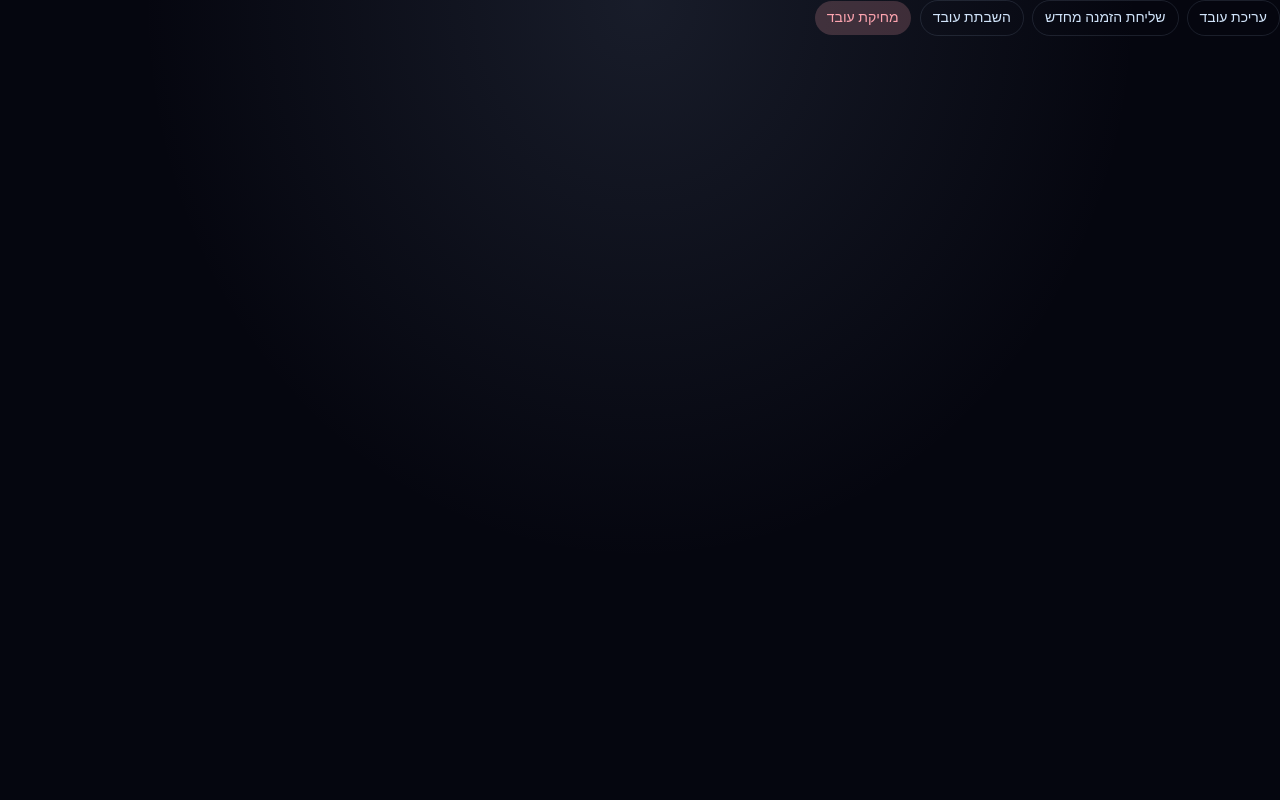
it: employee detail actions › asks for confirmation before deactivation and preserves the future-assignment warning
The width and height of the screenshot is (1280, 800).
Click the button with aria-label "השבתה" at coordinates (972, 18), box [920,0,1024,36]
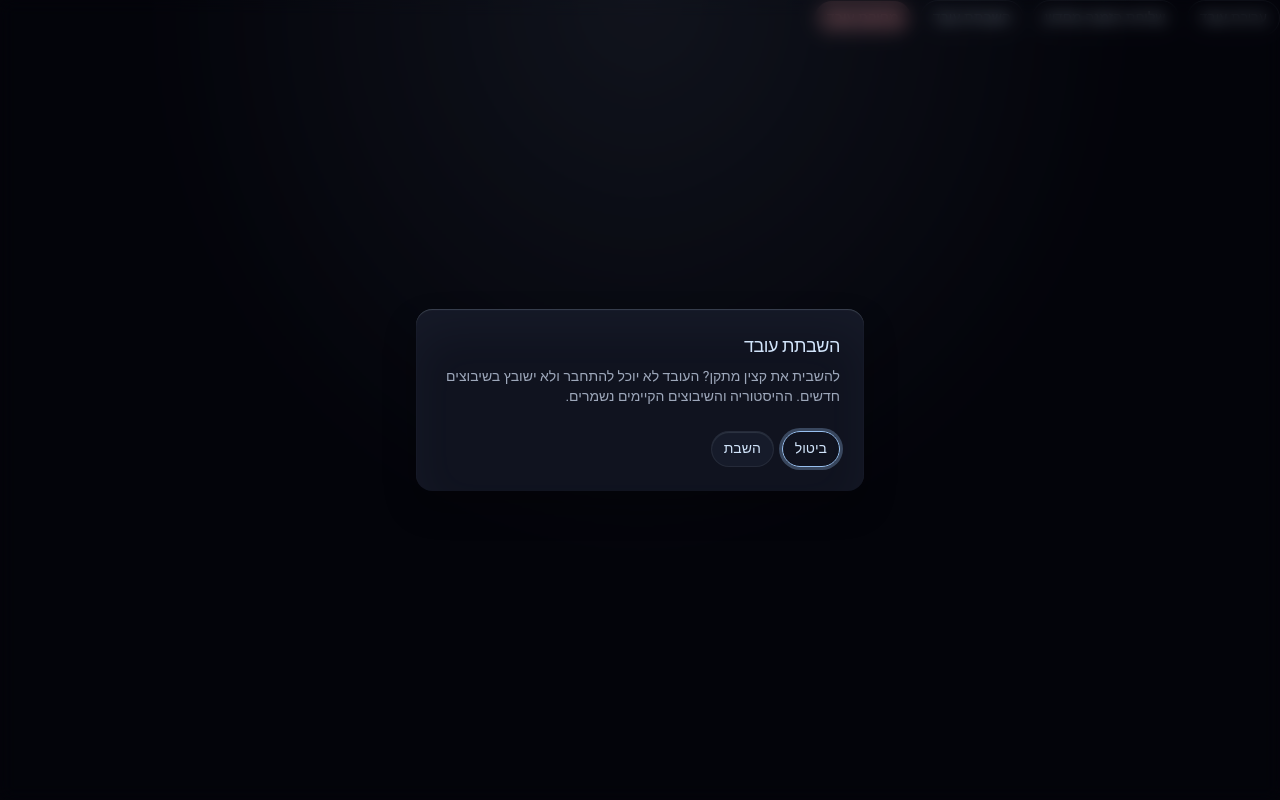
Click the button "השבת" at coordinates (742, 449), box [711,431,774,467]
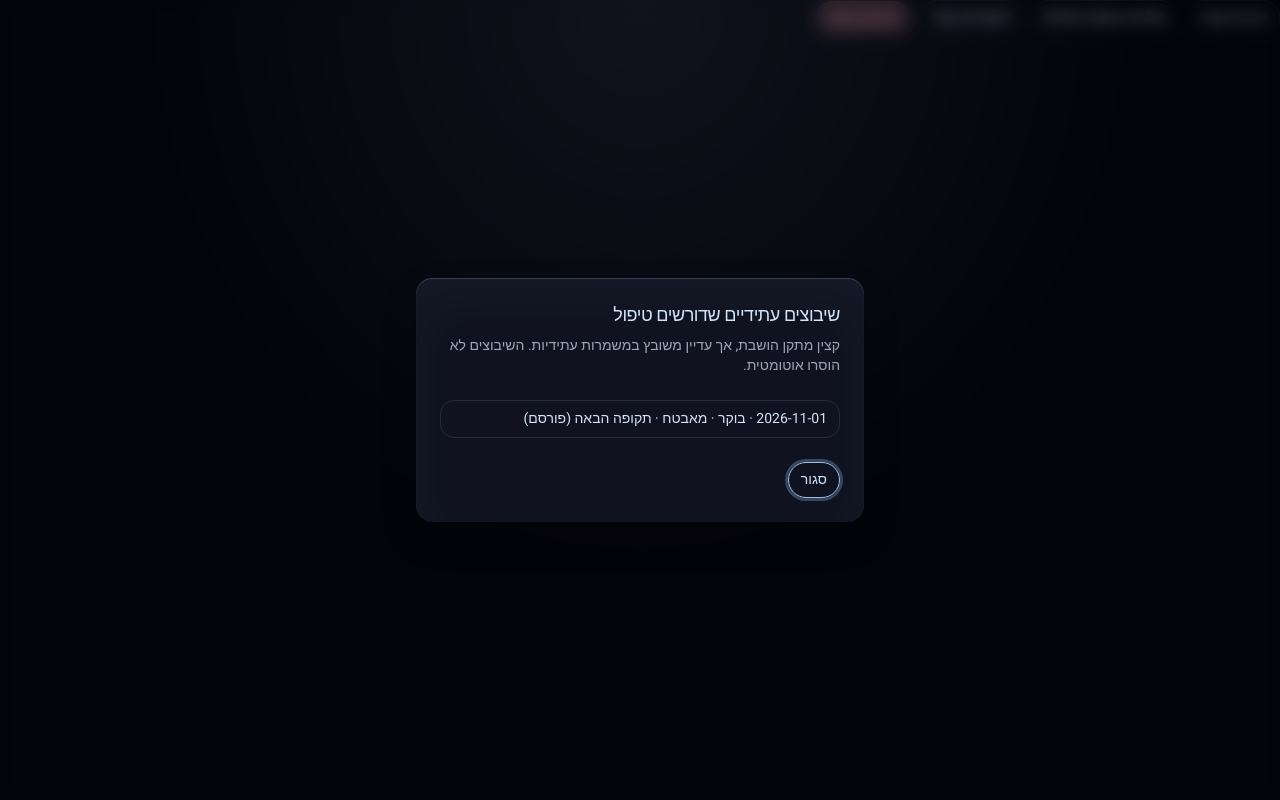
Check: the heading "שיבוצים עתידיים שדורשים טיפול" is shown, box [613,302,840,330]
Check: the list item "2026-11-01 · בוקר · מאבטח · תקופה הבאה (פורסם)" is shown, box [440,400,840,438]
